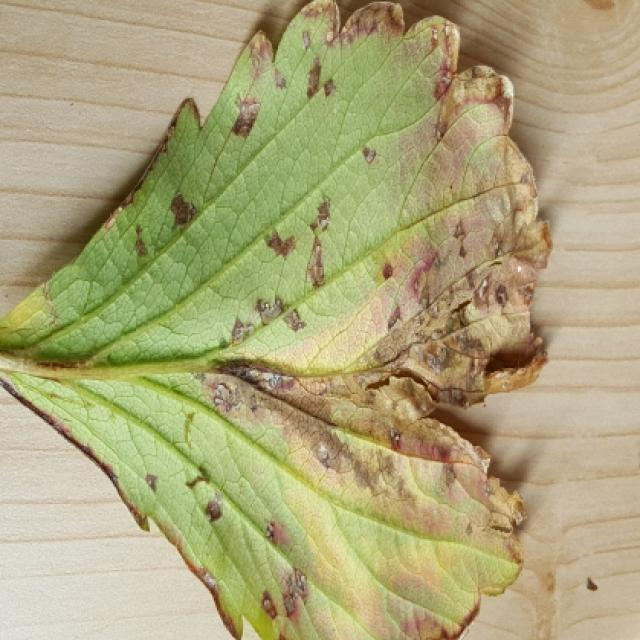Angular Leafspot: (2, 0, 556, 638)
